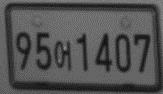0: (114, 32, 131, 73)
1: (76, 31, 89, 73)
4: (94, 32, 112, 72)
5: (35, 31, 52, 70)
7: (133, 33, 151, 73)
9: (14, 31, 32, 70)
어: (54, 40, 72, 71)
